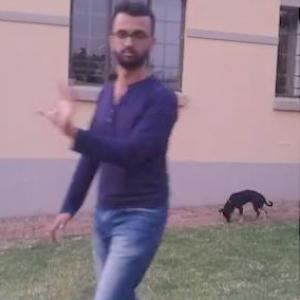follow_hand: (32, 74, 84, 133)
